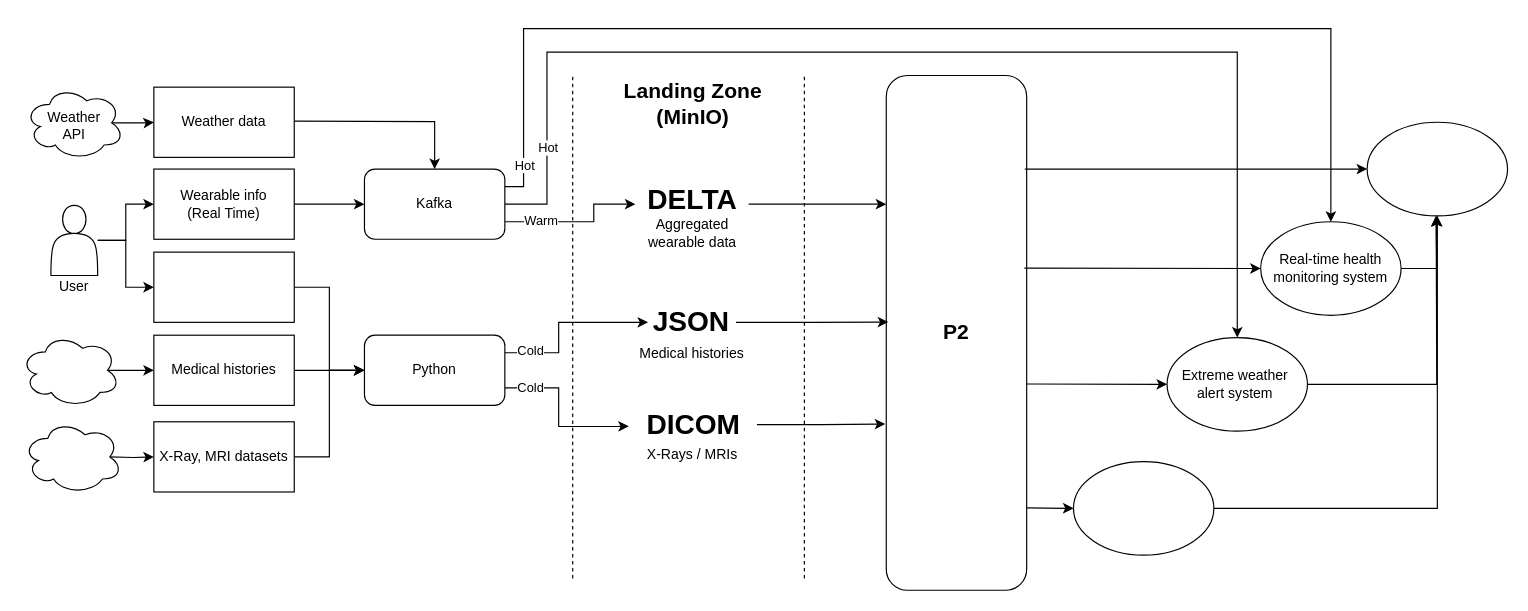
Image size: 1528x611. Some labels were removed from this diagram. Here are the shapes that lost their labels. From the top down, the centre of each, then its label:
At [1437,168]: "Fully customized health monitoring system".
At [223,286]: "X-Rays, MRIs".
At [69,369]: "FHIR API".
At [72,456]: "TCIA API".
At [1143,507]: "X-Rays / MRIs assesment".
